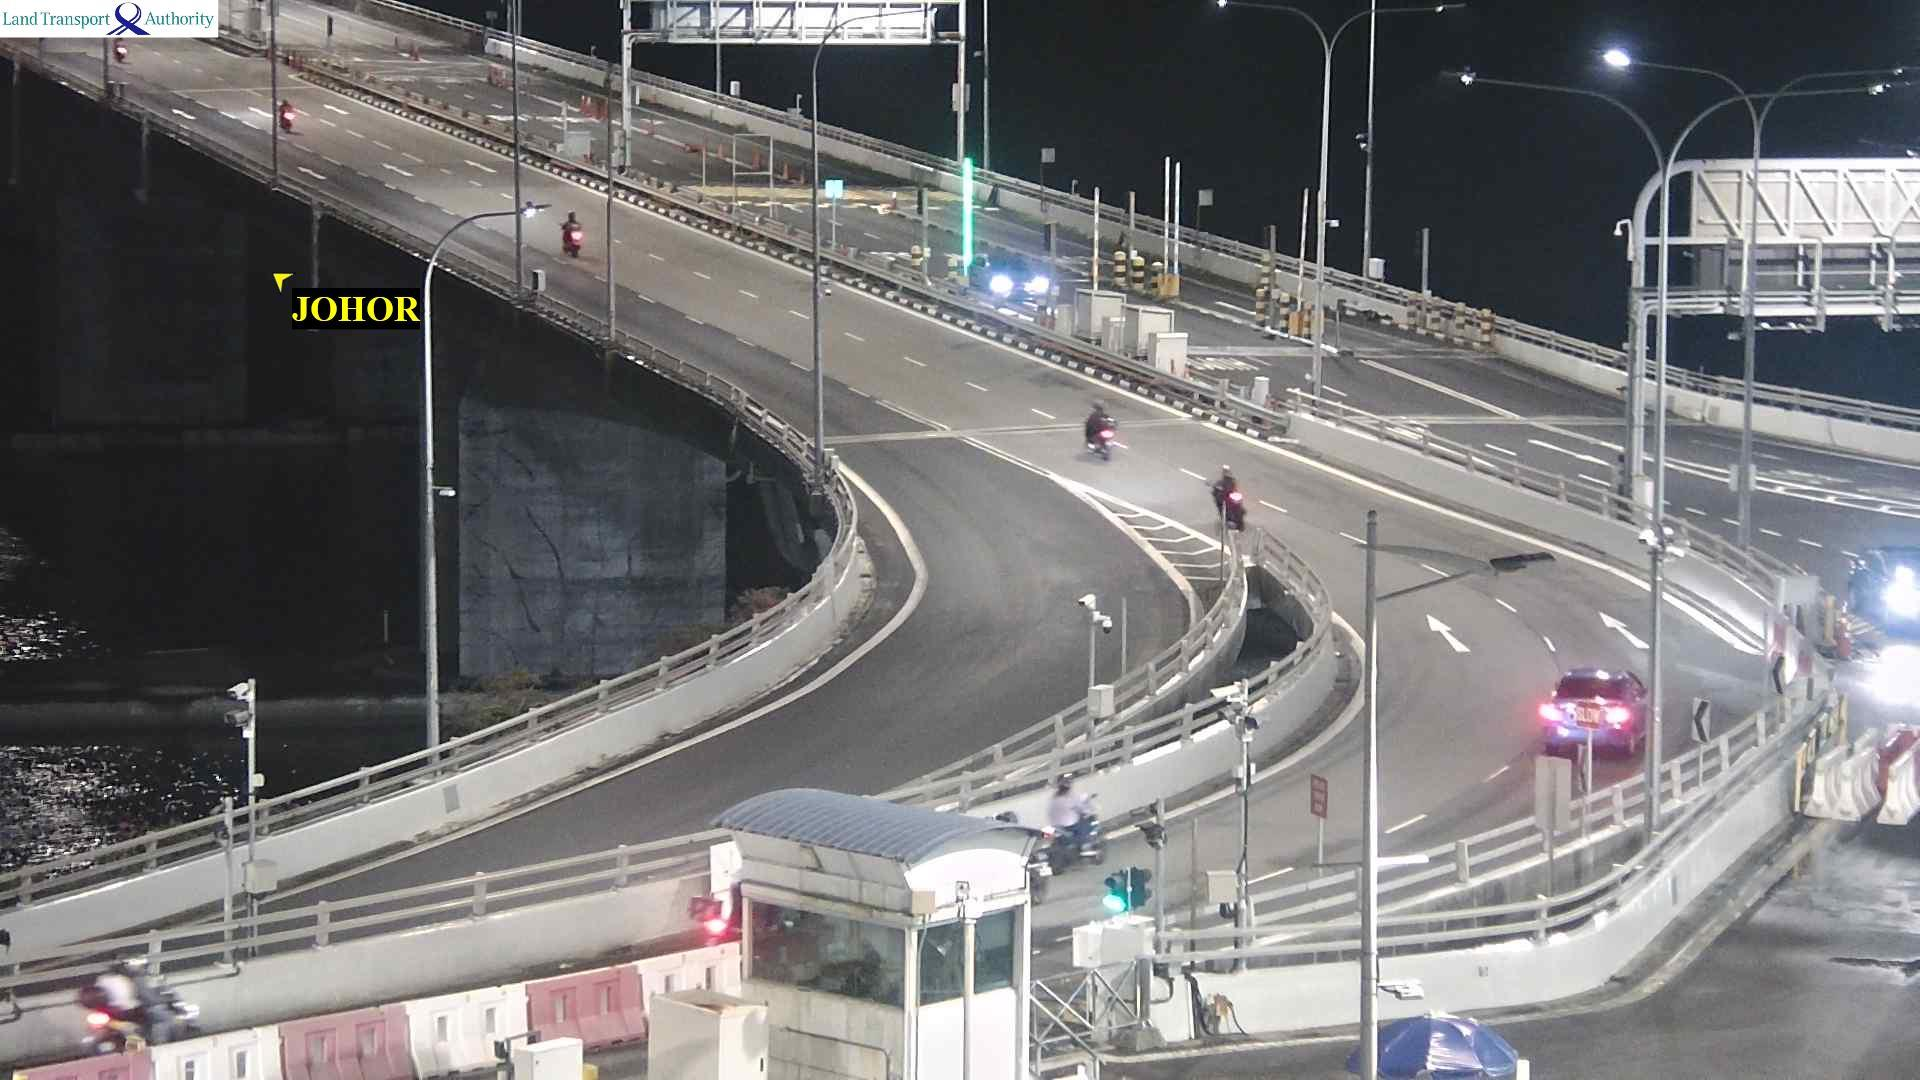vehicle-secondlink-johor: (78, 964, 208, 1051), (1539, 669, 1646, 753), (1046, 774, 1109, 866), (997, 811, 1052, 903), (692, 874, 741, 944), (1211, 464, 1247, 530), (1083, 398, 1118, 462), (559, 210, 583, 257), (278, 98, 297, 133), (112, 38, 129, 63)
vehicle-secondlink-singapore: (1846, 549, 1920, 634), (971, 255, 1050, 301)
